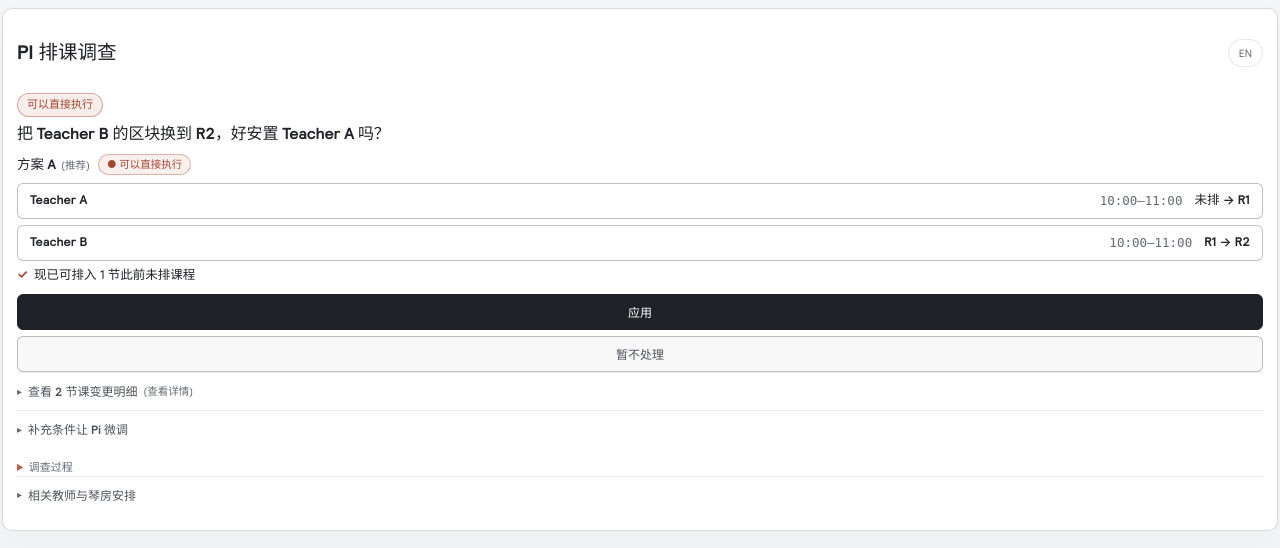
PiReconciliationPanel › 仅切换 PI 面板语言，默认中文并写入 localStorage
Expected: the heading "PI 排课调查" is shown, [17,39,116,67]
Expected: the button "应用" is shown, [17,294,1263,330]
Click the button with test id "pi-locale-toggle". click: {"x": 1245, "y": 53}
box: [1228,39,1263,67]
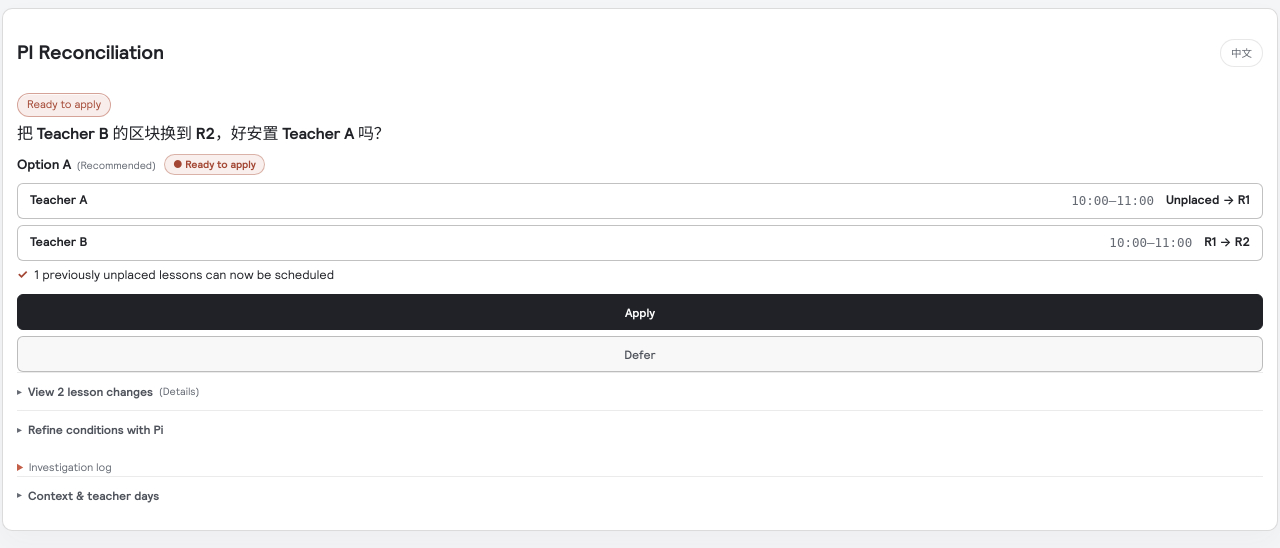
Expected: the button "Apply" is shown, [17,294,1263,330]
Result: the heading "PI Reconciliation" is shown at [17,39,164,67]
